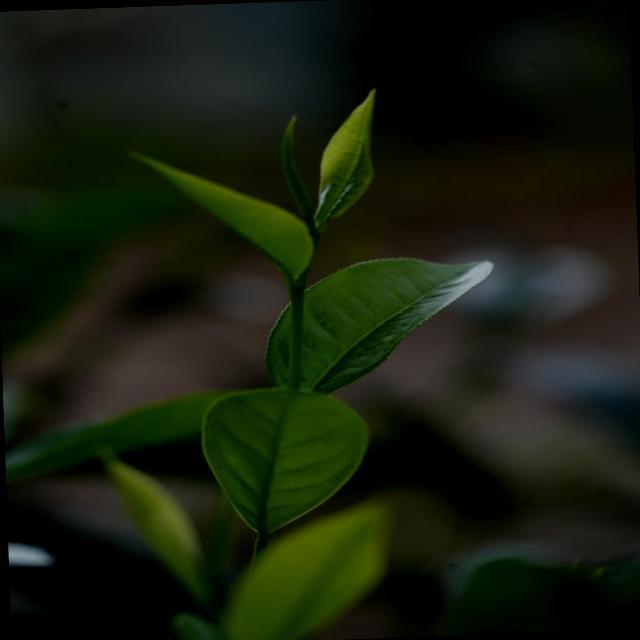Stem: (292, 281, 304, 300)
